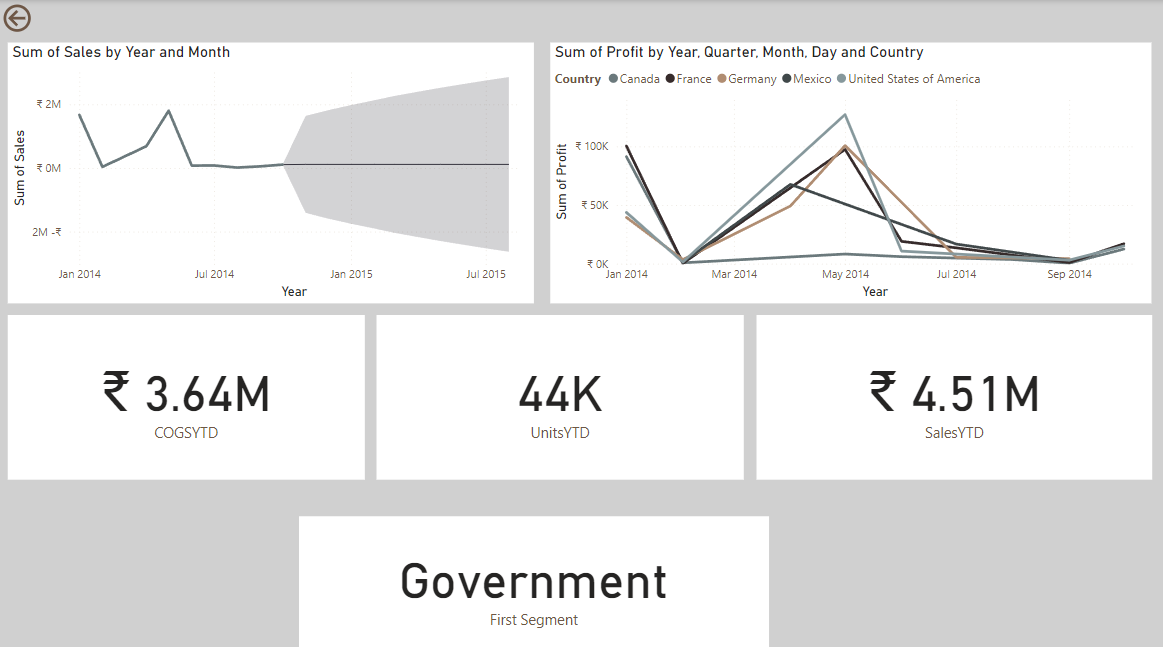

Layout of this report page (visuals, bound fields, positions):
{"tool":"powerbi","page":{"name":"Page 2","canvas":[1280,720],"ordinal":1},"visuals":[{"type":"lineChart","fields":{"Y":["Sum(Financials. Sales)"],"Category":["Financials.Date.Variation.Date Hierarchy.Year","Financials.Date.Variation.Date Hierarchy.Month"]},"box":[10,47,577.3,286.5],"z":0},{"type":"card","fields":{"Values":["Financials.COGSYTD"]},"box":[10,346.4,392,181],"z":1},{"type":"card","fields":{"Values":["Min(Segments.Segment)"]},"box":[329.3,567.3,516,149.7],"z":2},{"type":"card","fields":{"Values":["Financials.SalesYTD"]},"box":[831,346.4,434.7,181],"z":3},{"type":"card","fields":{"Values":["Financials.UnitsYTD"]},"box":[414.8,346.4,403.4,181],"z":4},{"type":"lineChart","fields":{"Series":["Country.Country"],"Category":["Financials.Date.Variation.Date Hierarchy.Year","Financials.Date.Variation.Date Hierarchy.Quarter","Financials.Date.Variation.Date Hierarchy.Month","Financials.Date.Variation.Date Hierarchy.Day"],"Y":["Sum(Financials.Profit)"]},"box":[605.8,47,660,286.5],"z":5},{"type":"actionButton","box":[0,0,99.8,39.9],"z":6}]}

Visuals, with their boxes in screenshot pixels (x1, y1, x2, y2), scaled from the page's 1280x720 canvas onto the 1163x647 screenshot:
lineChart - Sum(Financials. Sales) x Financials.Date.Variation.Date Hierarchy.Year: rect(9, 42, 534, 300)
card - Financials.COGSYTD: rect(9, 311, 365, 474)
card - Min(Segments.Segment): rect(299, 510, 768, 644)
card - Financials.SalesYTD: rect(755, 311, 1150, 474)
card - Financials.UnitsYTD: rect(377, 311, 743, 474)
lineChart - Country.Country x Financials.Date.Variation.Date Hierarchy.Year: rect(550, 42, 1150, 300)
actionButton: rect(0, 0, 91, 36)
